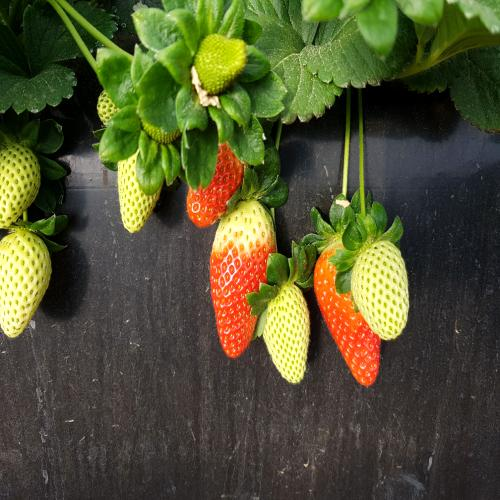partially-ripe: (207, 196, 277, 364)
ripe: (317, 221, 383, 396), (185, 103, 239, 240)
